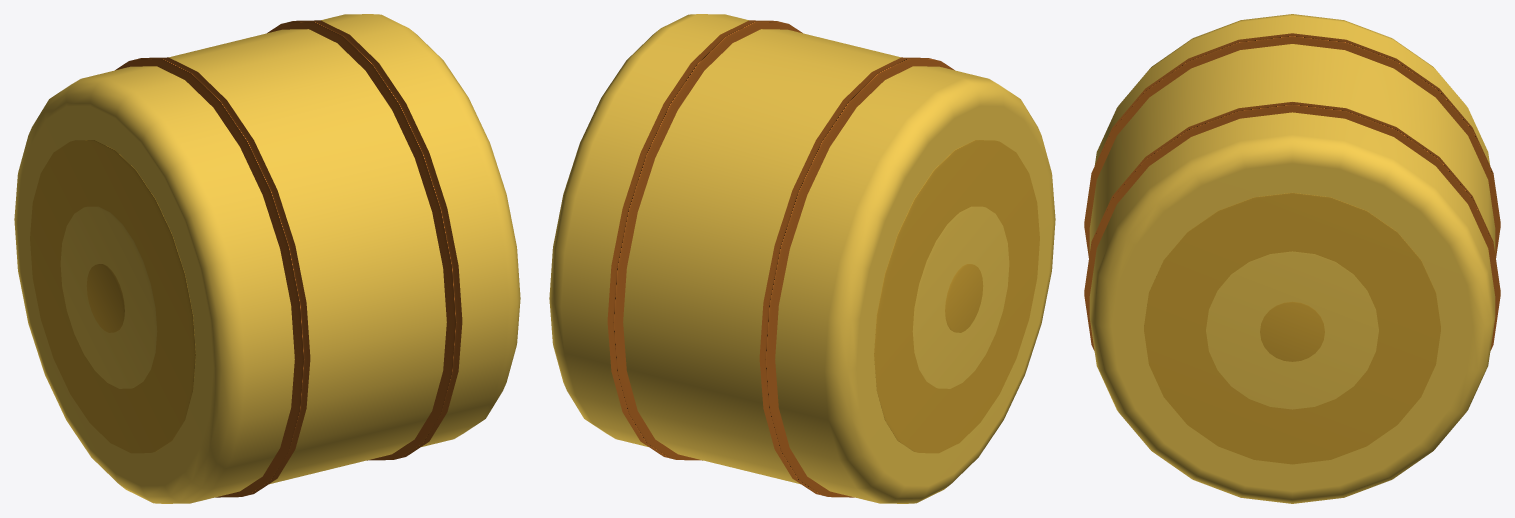
Rendered from hay.glb.
The picture shows the model from 3 angles, left to right: view 1: azimuth 30°, elevation 25°; view 2: azimuth 150°, elevation 25°; view 3: azimuth 270°, elevation 25°; orthographic projection. The views are drawn at different scales.
Visible parts, largest first — view 1: Hay; view 2: Hay; view 3: Hay.
Boxes of the visible parts, <box> form: Hay: <box>14,14,520,503</box>; Hay: <box>549,14,1055,503</box>; Hay: <box>1084,14,1500,503</box>.
Bounding box in the file's own units: 1.29 × 1.54 × 1.54.
